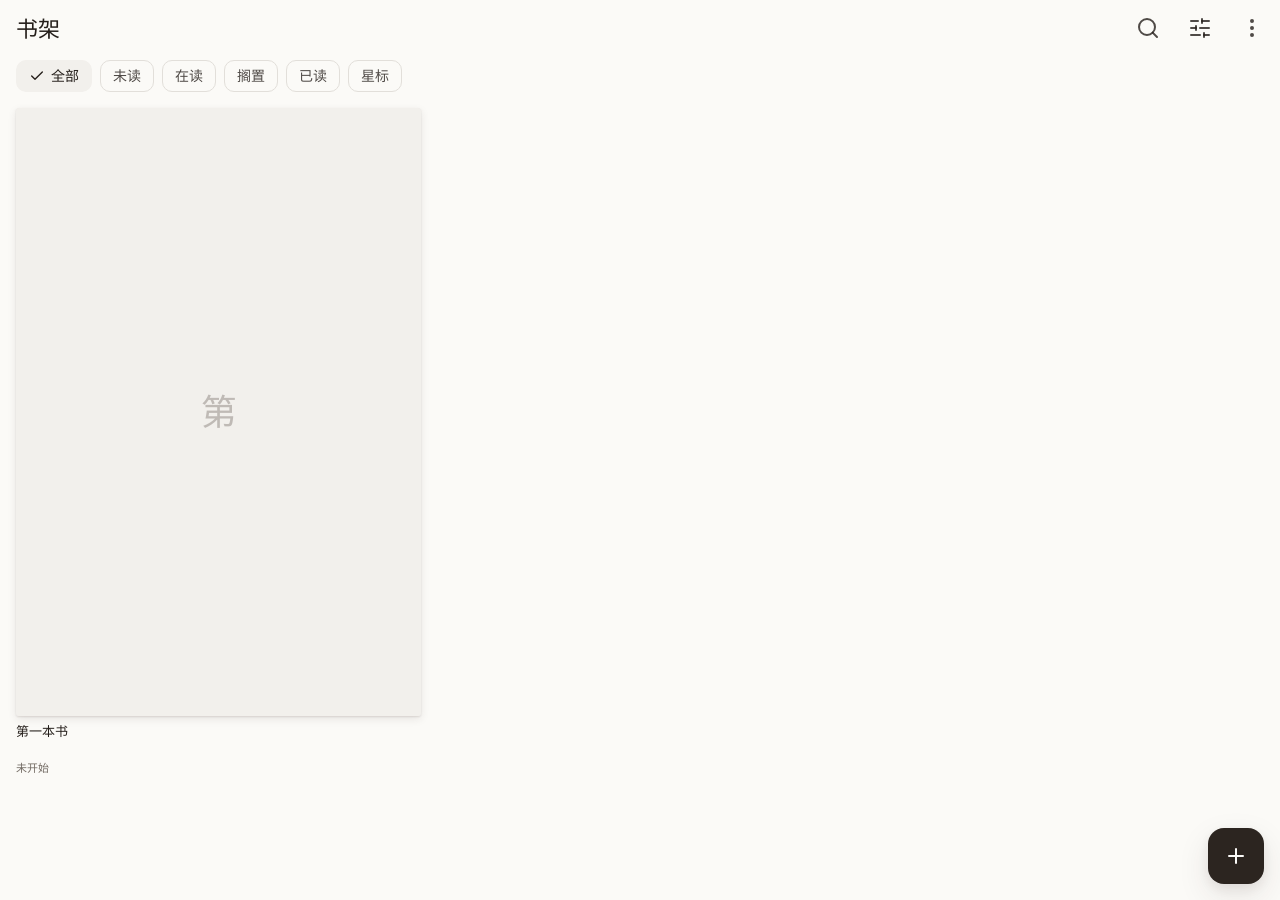
Test case: MobileApp — importing › reports a file the platform couldn't read
Expected: the button titled "第一本书" is shown, [16,108,421,776]
Click the button named "导入书籍" at (1236, 856), box [1208,828,1264,884]
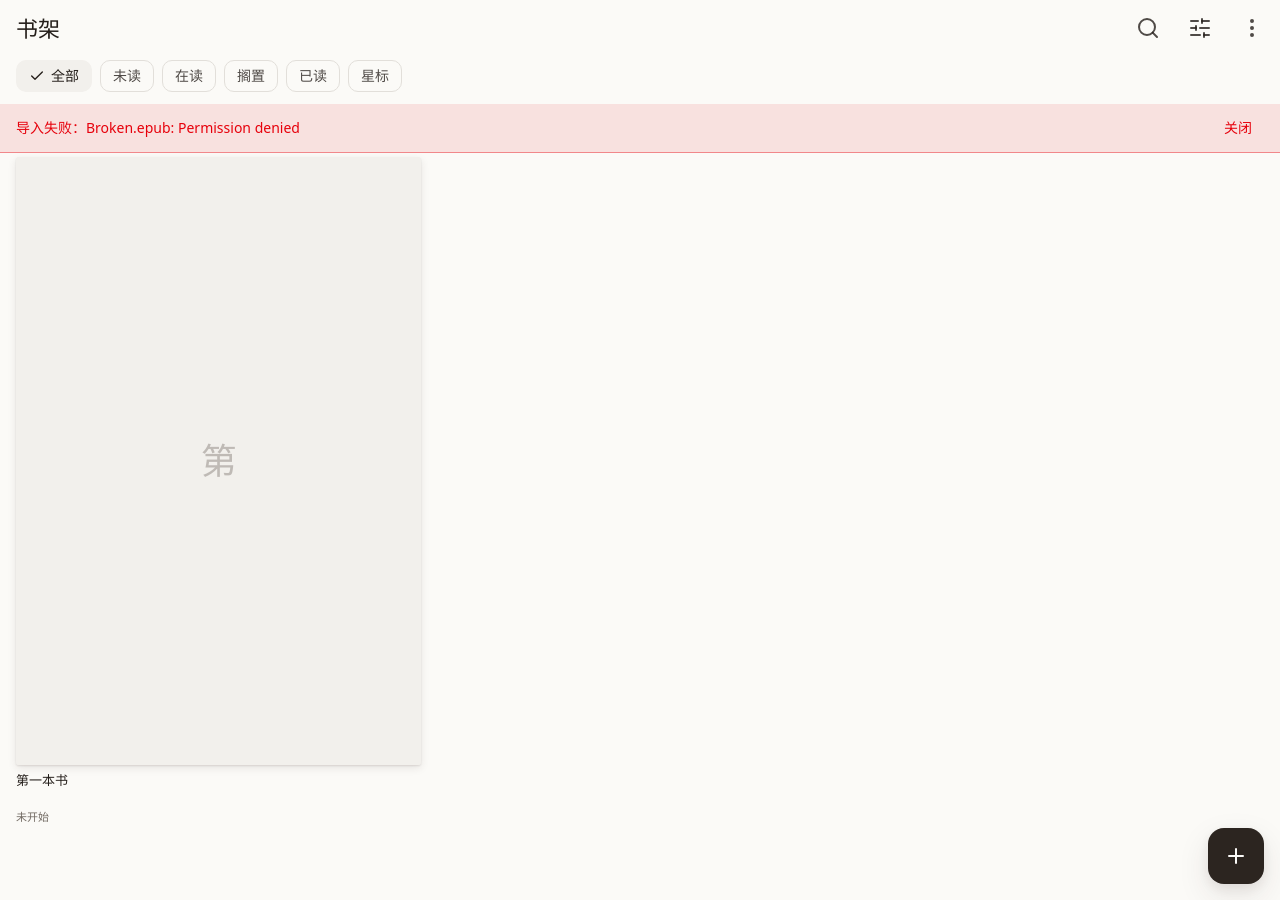
Expected: the text "导入失败：Broken.epub: Permission denied" is shown, [16,118,300,137]
